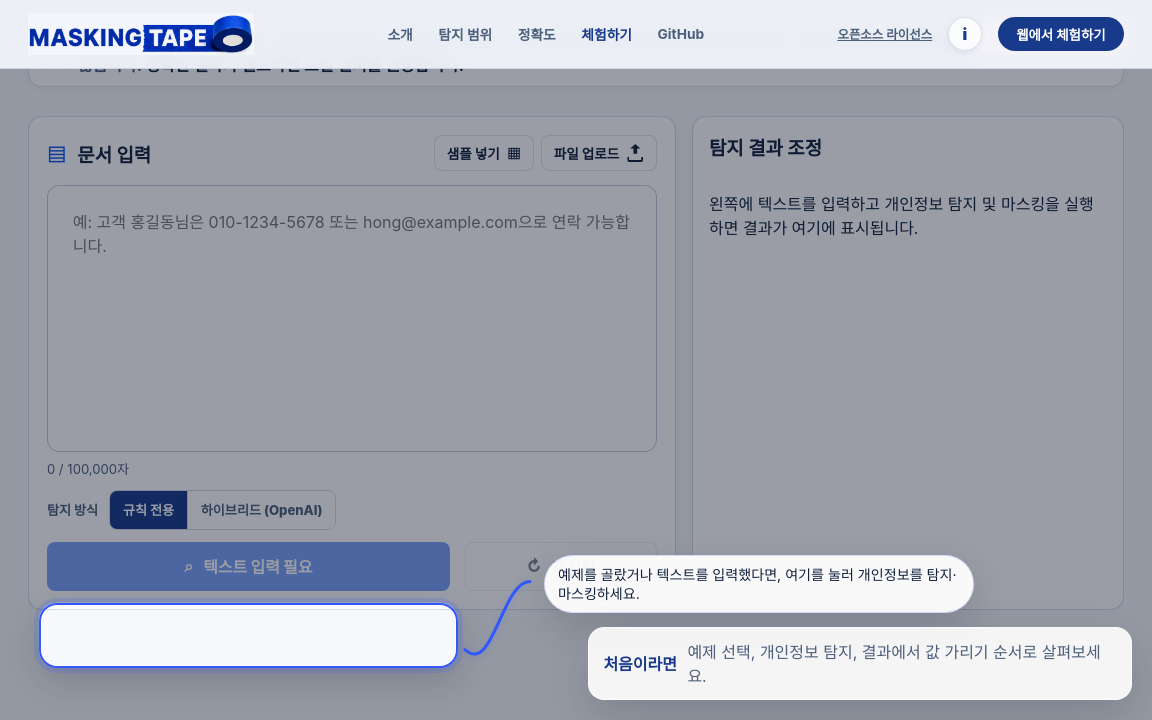
Test: DemoPage detection mode (#547) › sends hybrid when chosen, and marks the names the OpenAI judge added
The width and height of the screenshot is (1152, 720).
(page scrolled)
Press Escape
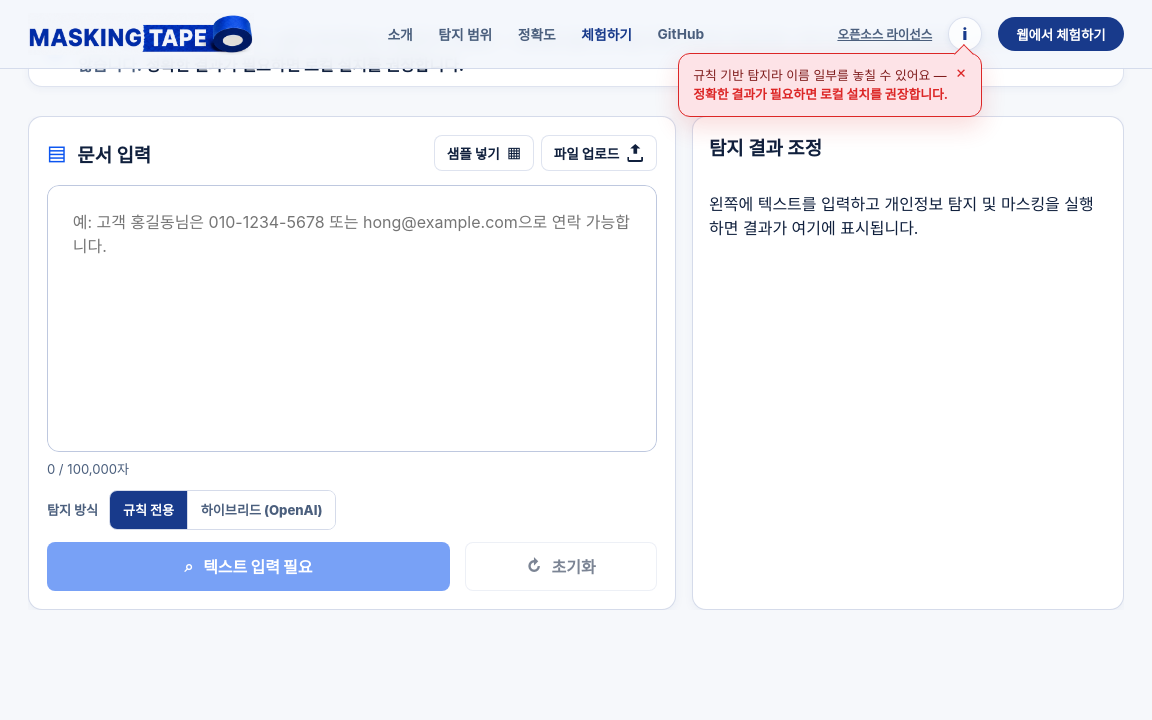
Click the button "하이브리드 (OpenAI)" at (261, 510), box [187,491,335,529]
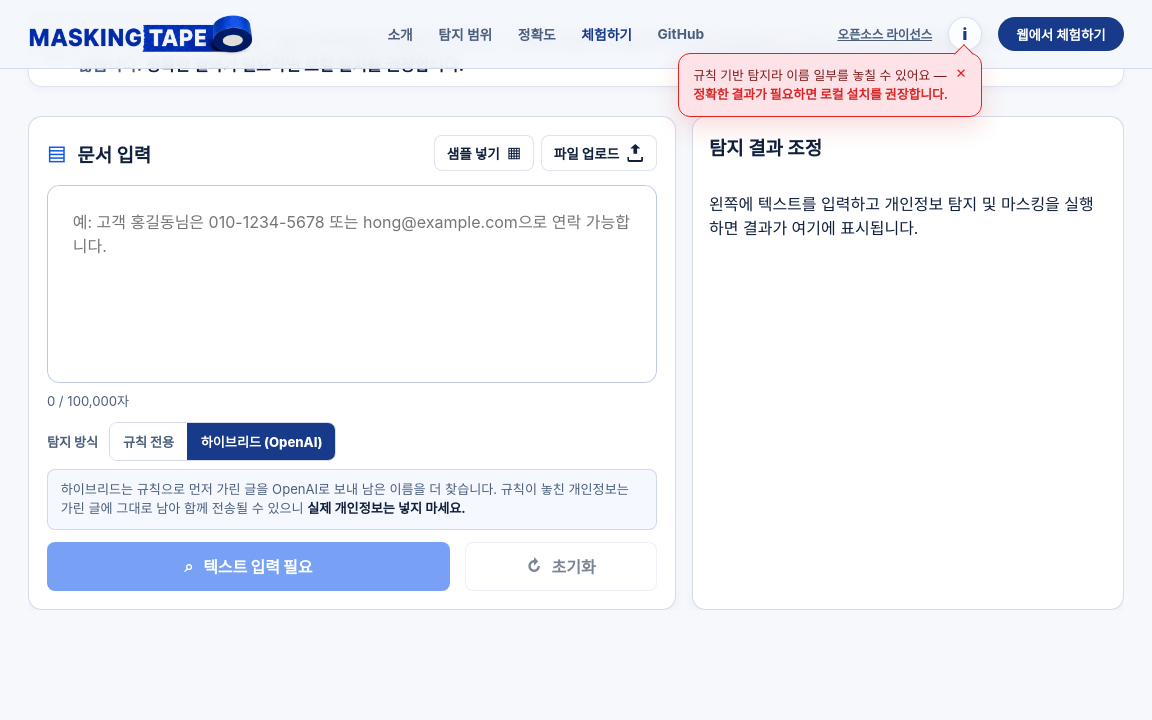
Type "고객 김민준 010-1234-5678" into the text box named "탐지할 텍스트 입력" at (352, 284), box [47,185,657,383]
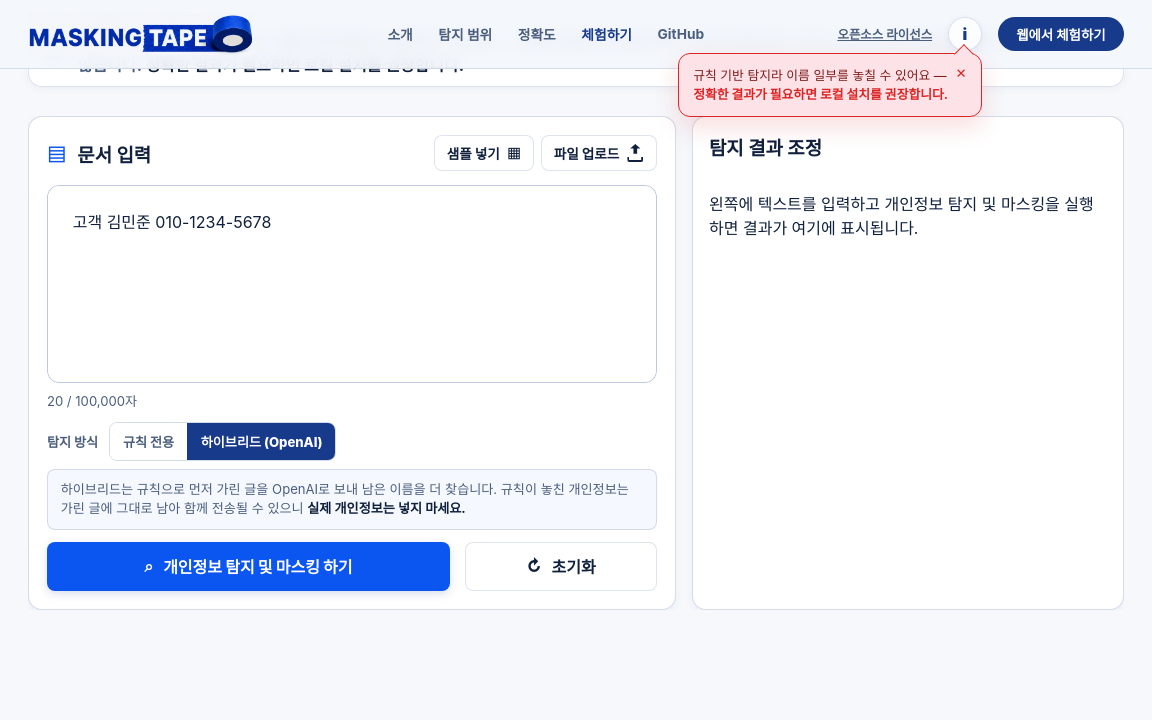
Click the button "⌕ 개인정보 탐지 및 마스킹 하기" at (248, 566), box [47,542,450,591]
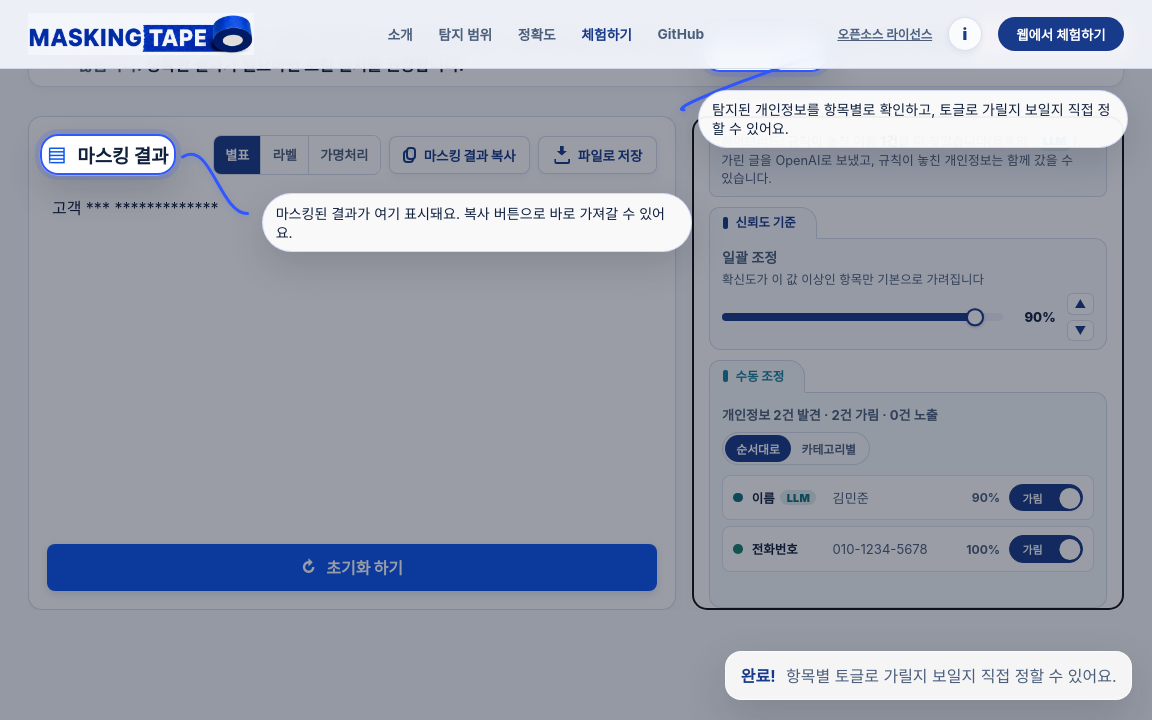
Check: the text "규칙이 놓친 이름" shows "1건", box [709,125,1107,197]
Check: the switch named "이름(LLM) 김민준" is shown, box [1009,484,1083,511]
Check: the switch named "전화번호 010" is shown, box [1009,536,1083,563]
